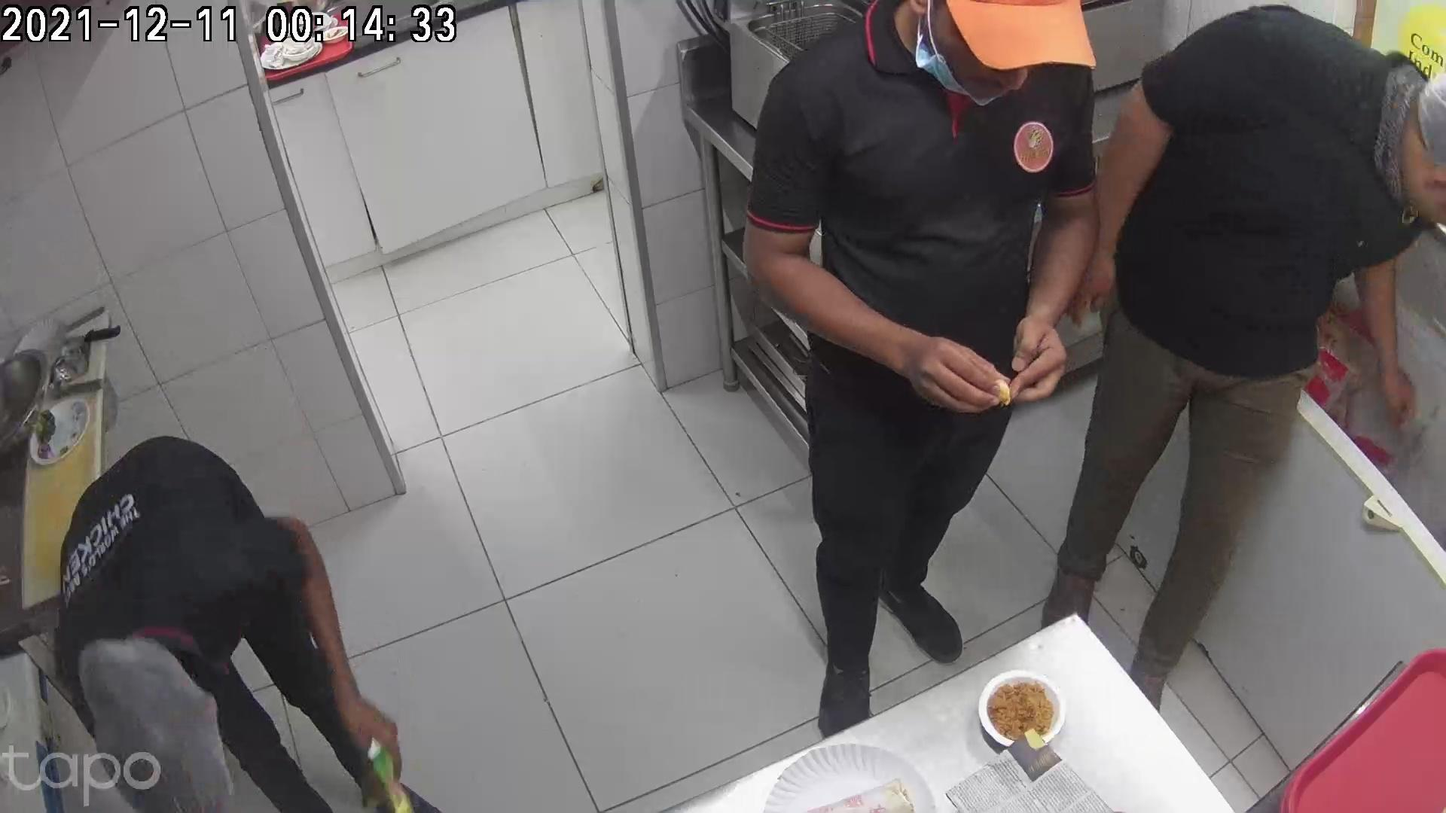no_gloves: (735, 246, 887, 350)
